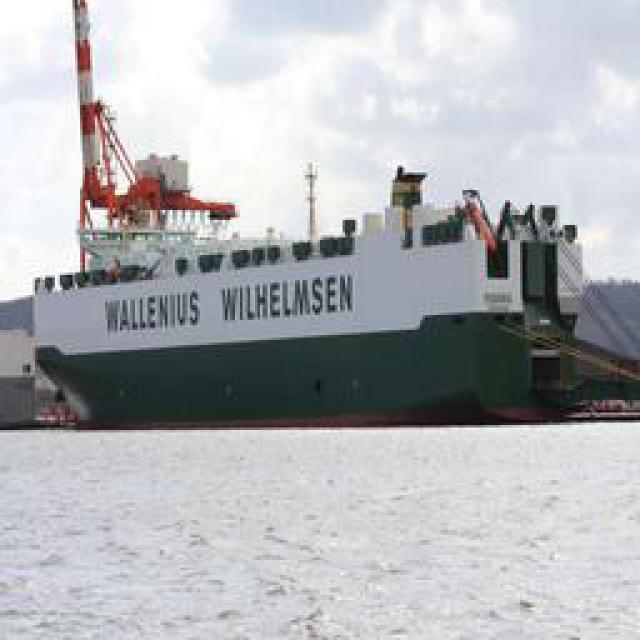Ship: (26, 84, 619, 424)
